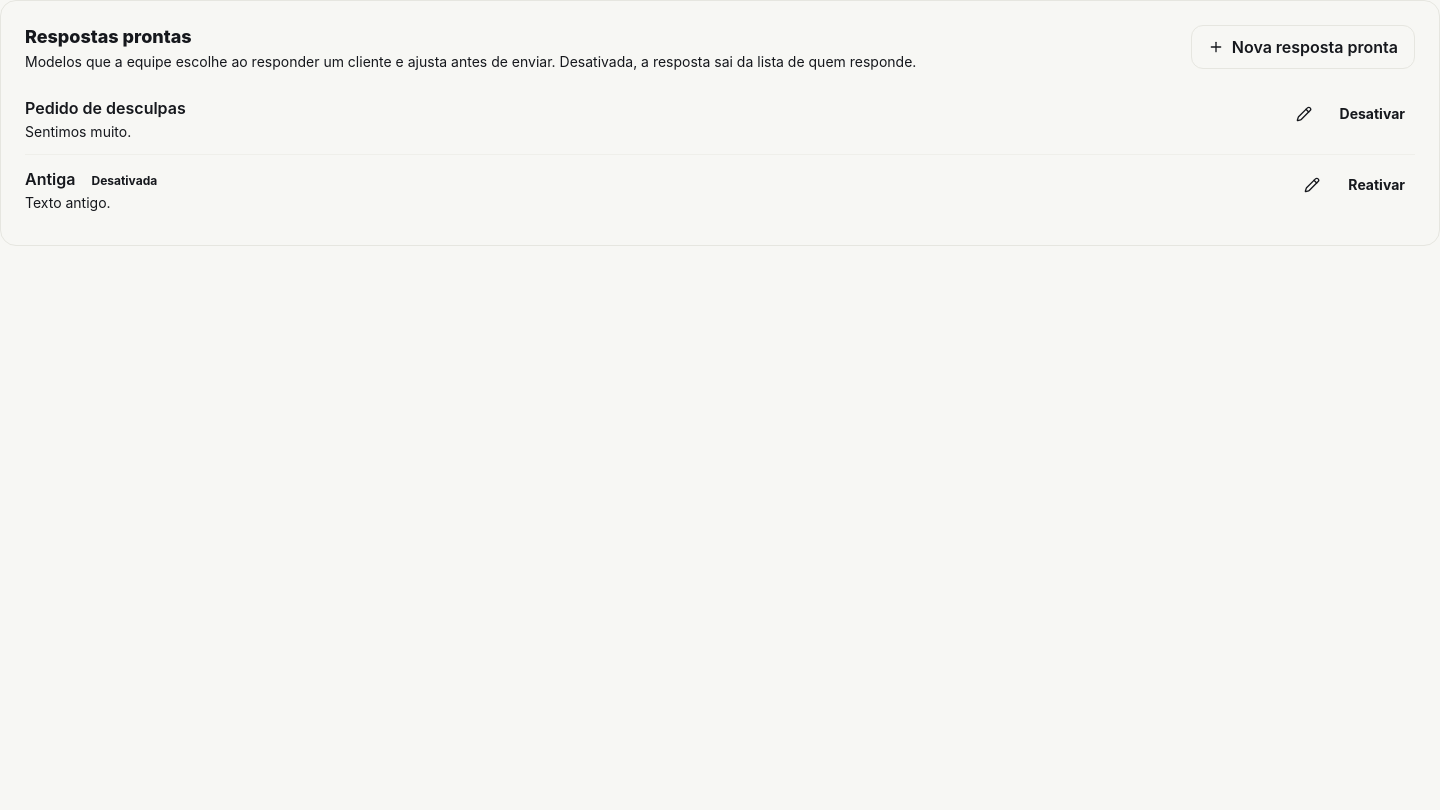
it: respostas prontas nas configurações › título repetido (409): diz o motivo e mantém o formulário
This screenshot has width=1440, height=810.
Click the button "Nova resposta pronta" at (1303, 47), box [1191,25,1415,69]
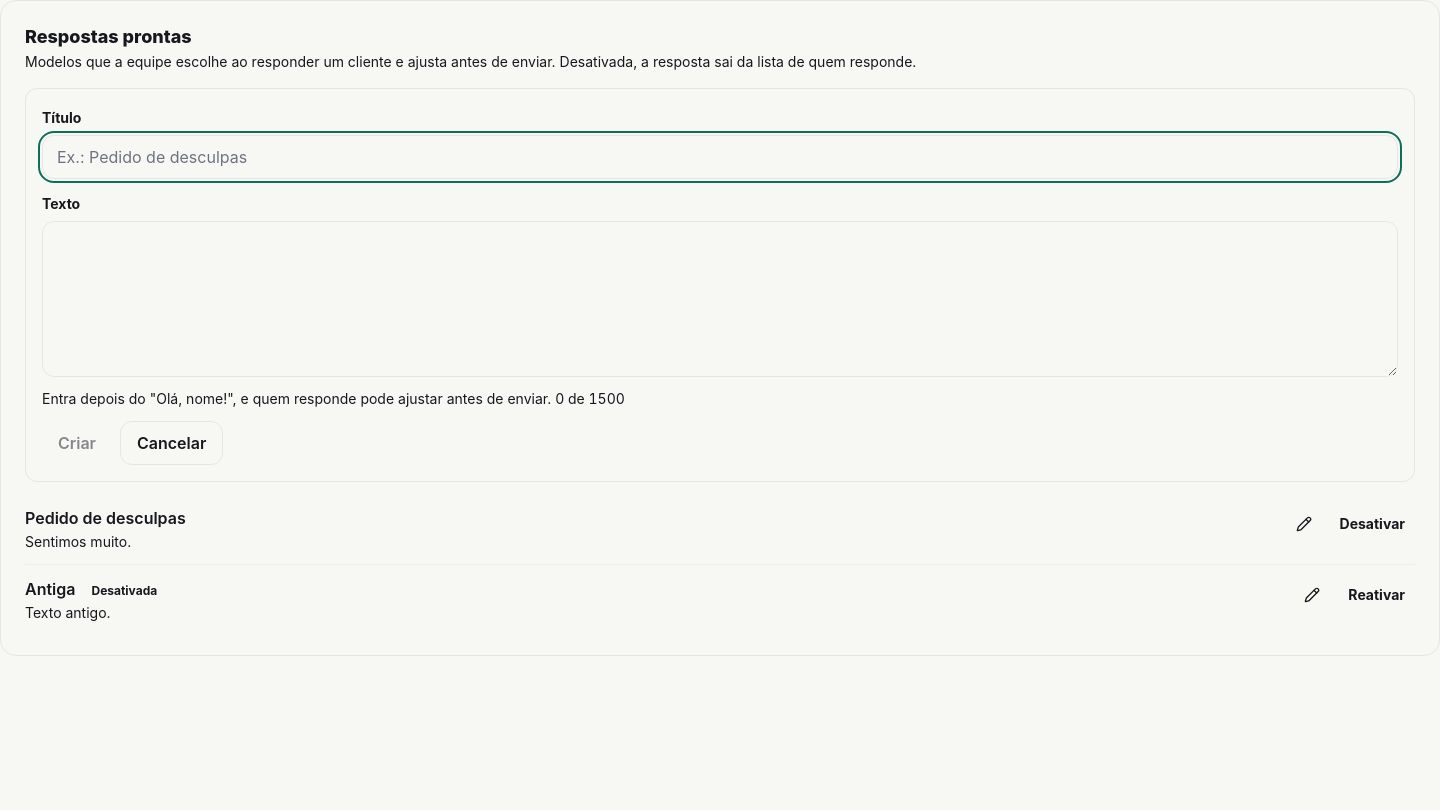
Type "Pedido de desculpas" into the field labelled "Título" at (720, 157), box [42,135,1398,179]
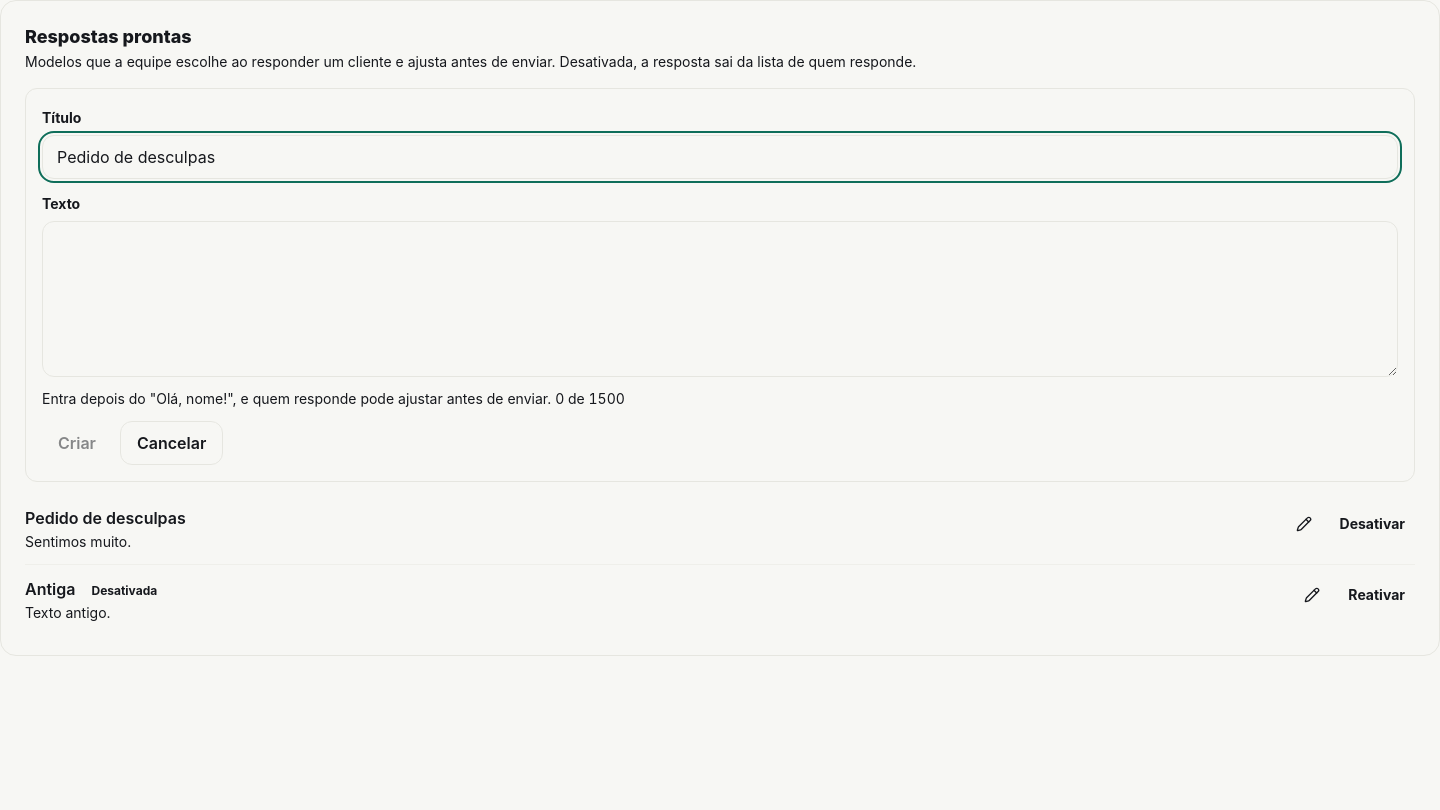
Type "x" into the text box labelled "Texto" at (720, 299), box [42,221,1398,377]
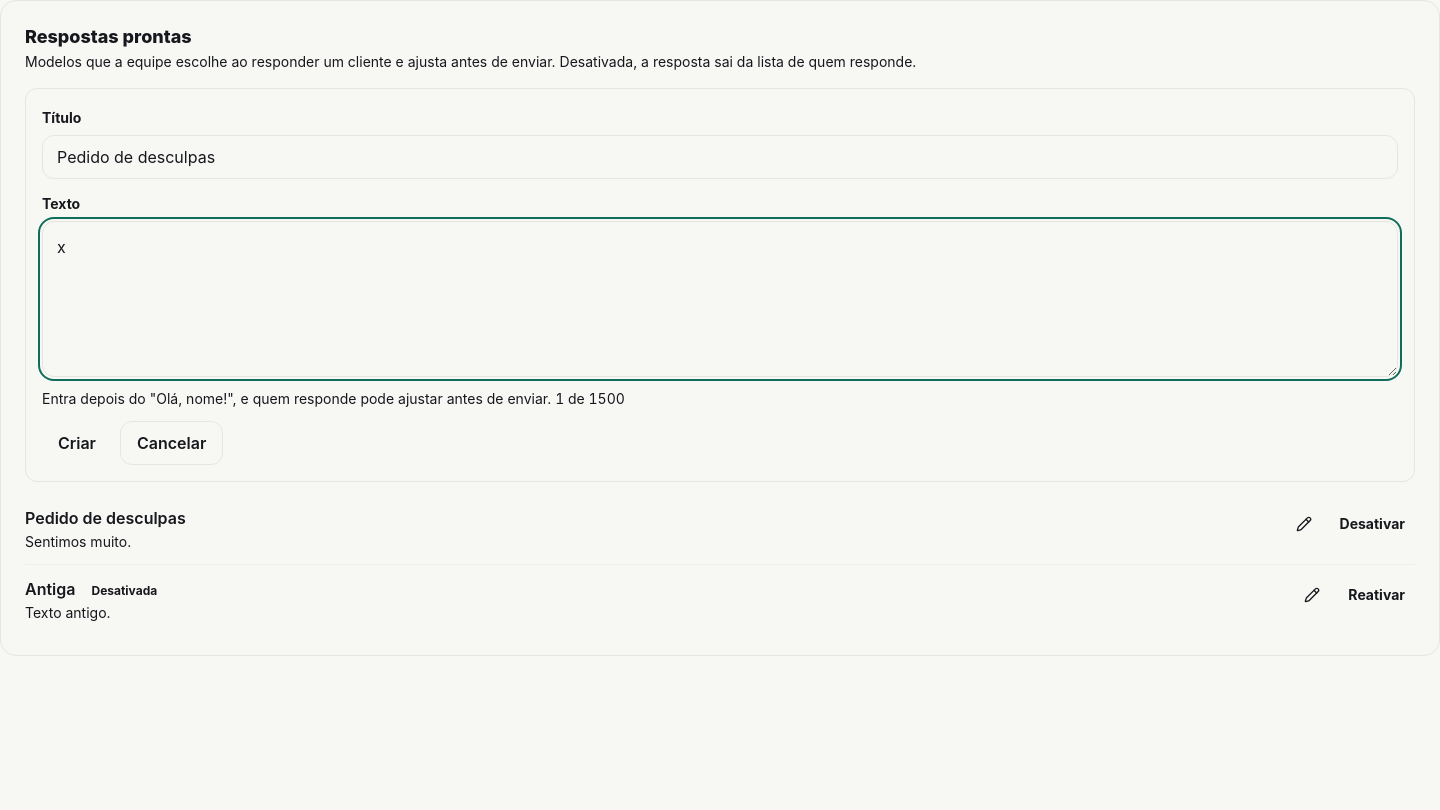
Click the button "Criar" at (77, 443), box [42,421,112,465]
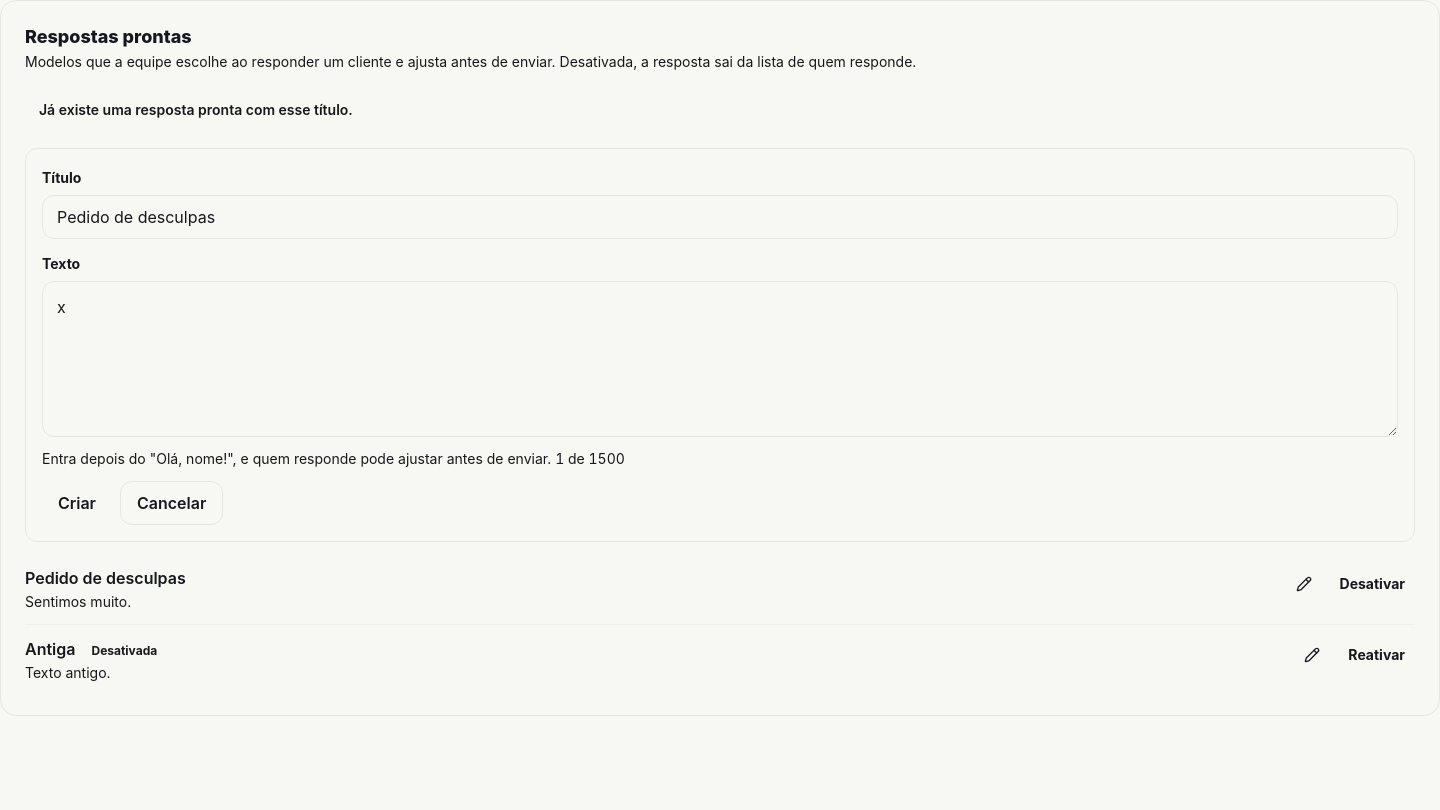
Check: the message reads "Já existe uma resposta pronta com esse título.", box [39,101,353,118]
